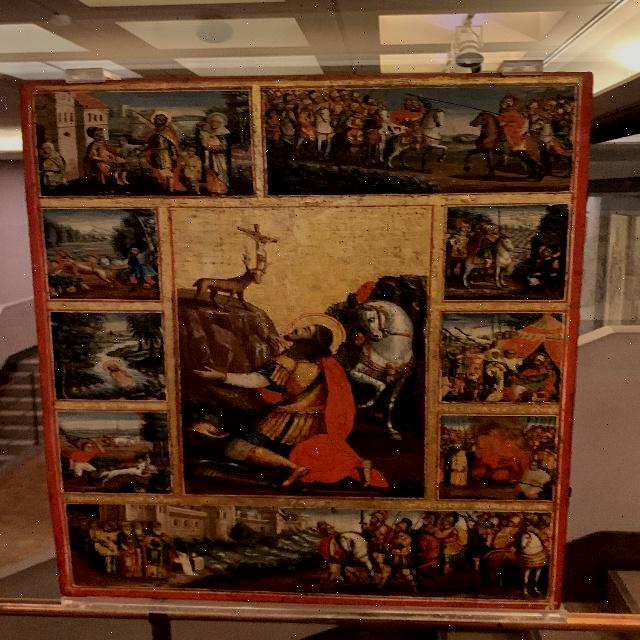aura: (285, 312, 346, 354)
christ_crucifixion: (238, 224, 279, 264)
horse: (358, 304, 420, 432)
saint: (244, 309, 345, 479)
